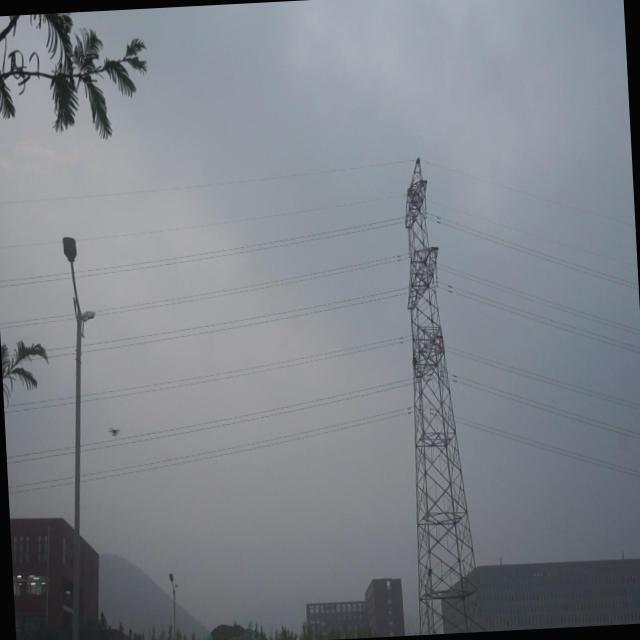drone: (108, 424, 120, 439)
